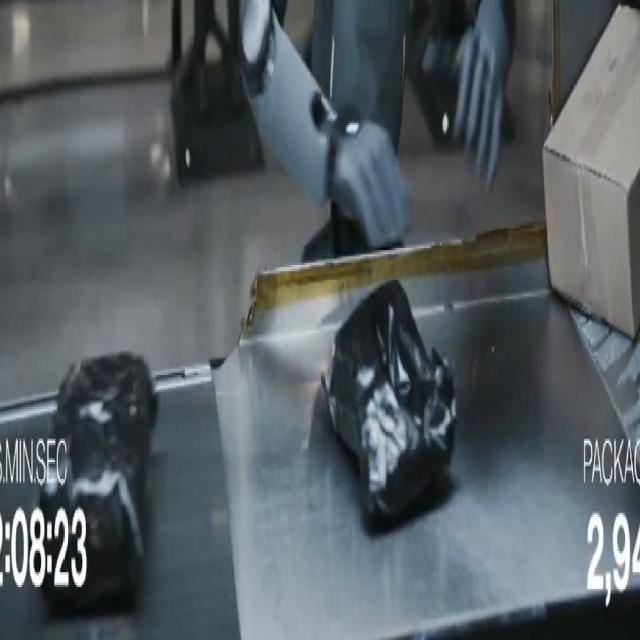package: (323, 280, 455, 525), (544, 7, 639, 336), (40, 352, 157, 608)
